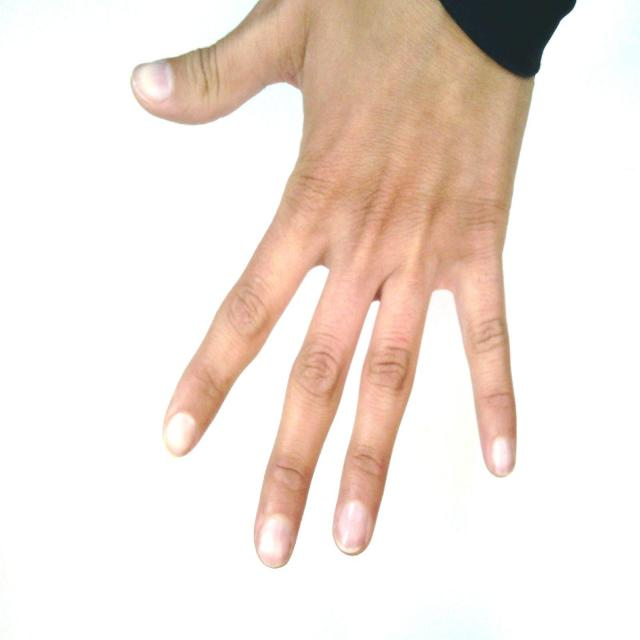others: (120, 1, 593, 578)
